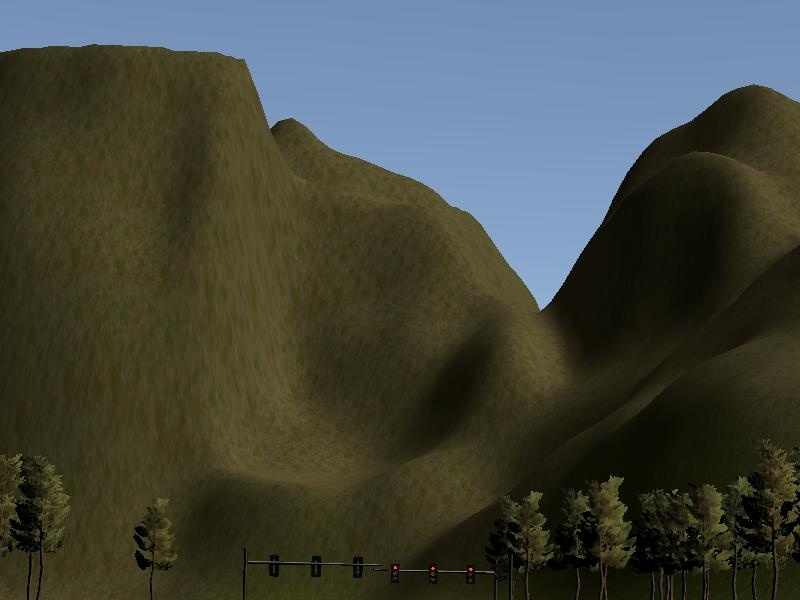red: (387, 559, 403, 593), (460, 562, 478, 591), (424, 562, 442, 585)
